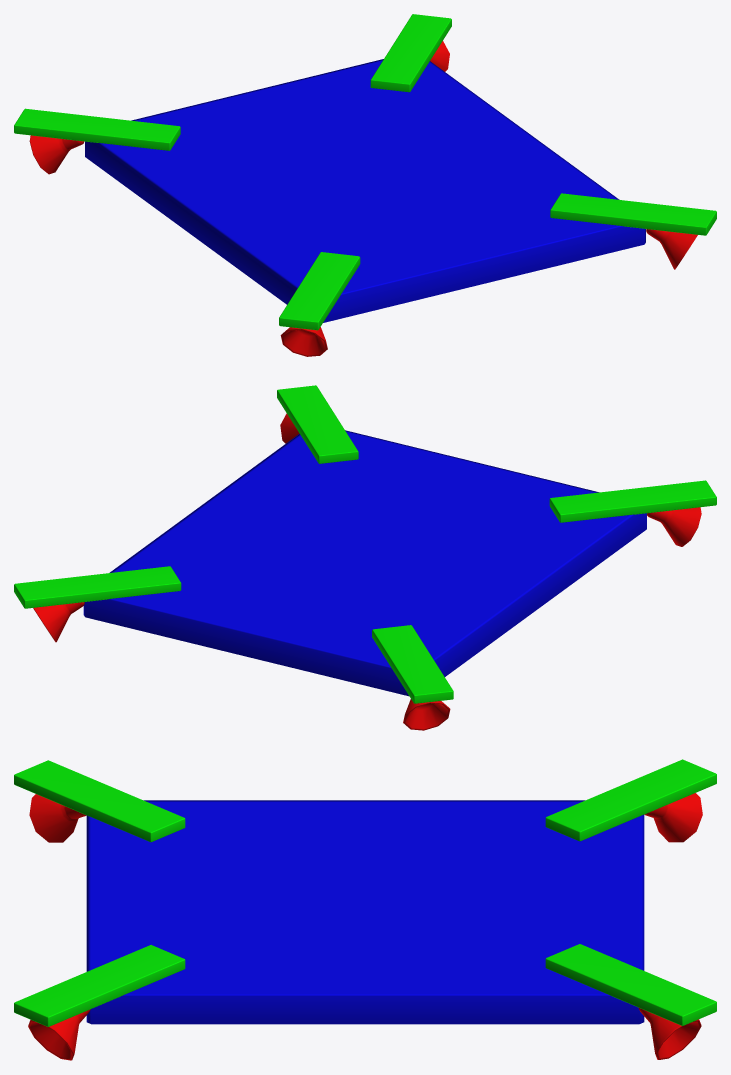
Rendered from Tower_Floor_4.fbx.
3 views of the same model, one above another, from view 1: azimuth 30°, elevation 25°; view 2: azimuth 150°, elevation 25°; view 3: azimuth 270°, elevation 25° (orthographic). The views are drawn at different scales.
Parts seen in each view (by area): view 1: Floor_4_UV; view 2: Floor_4_UV; view 3: Floor_4_UV.
Part boxes in pixels (left/top/right/bottom): Floor_4_UV: left=14, top=14, right=716, bottom=356; Floor_4_UV: left=14, top=385, right=716, bottom=730; Floor_4_UV: left=14, top=759, right=716, bottom=1060.
Size of the model in its own units: 1078 by 122 by 1242.
